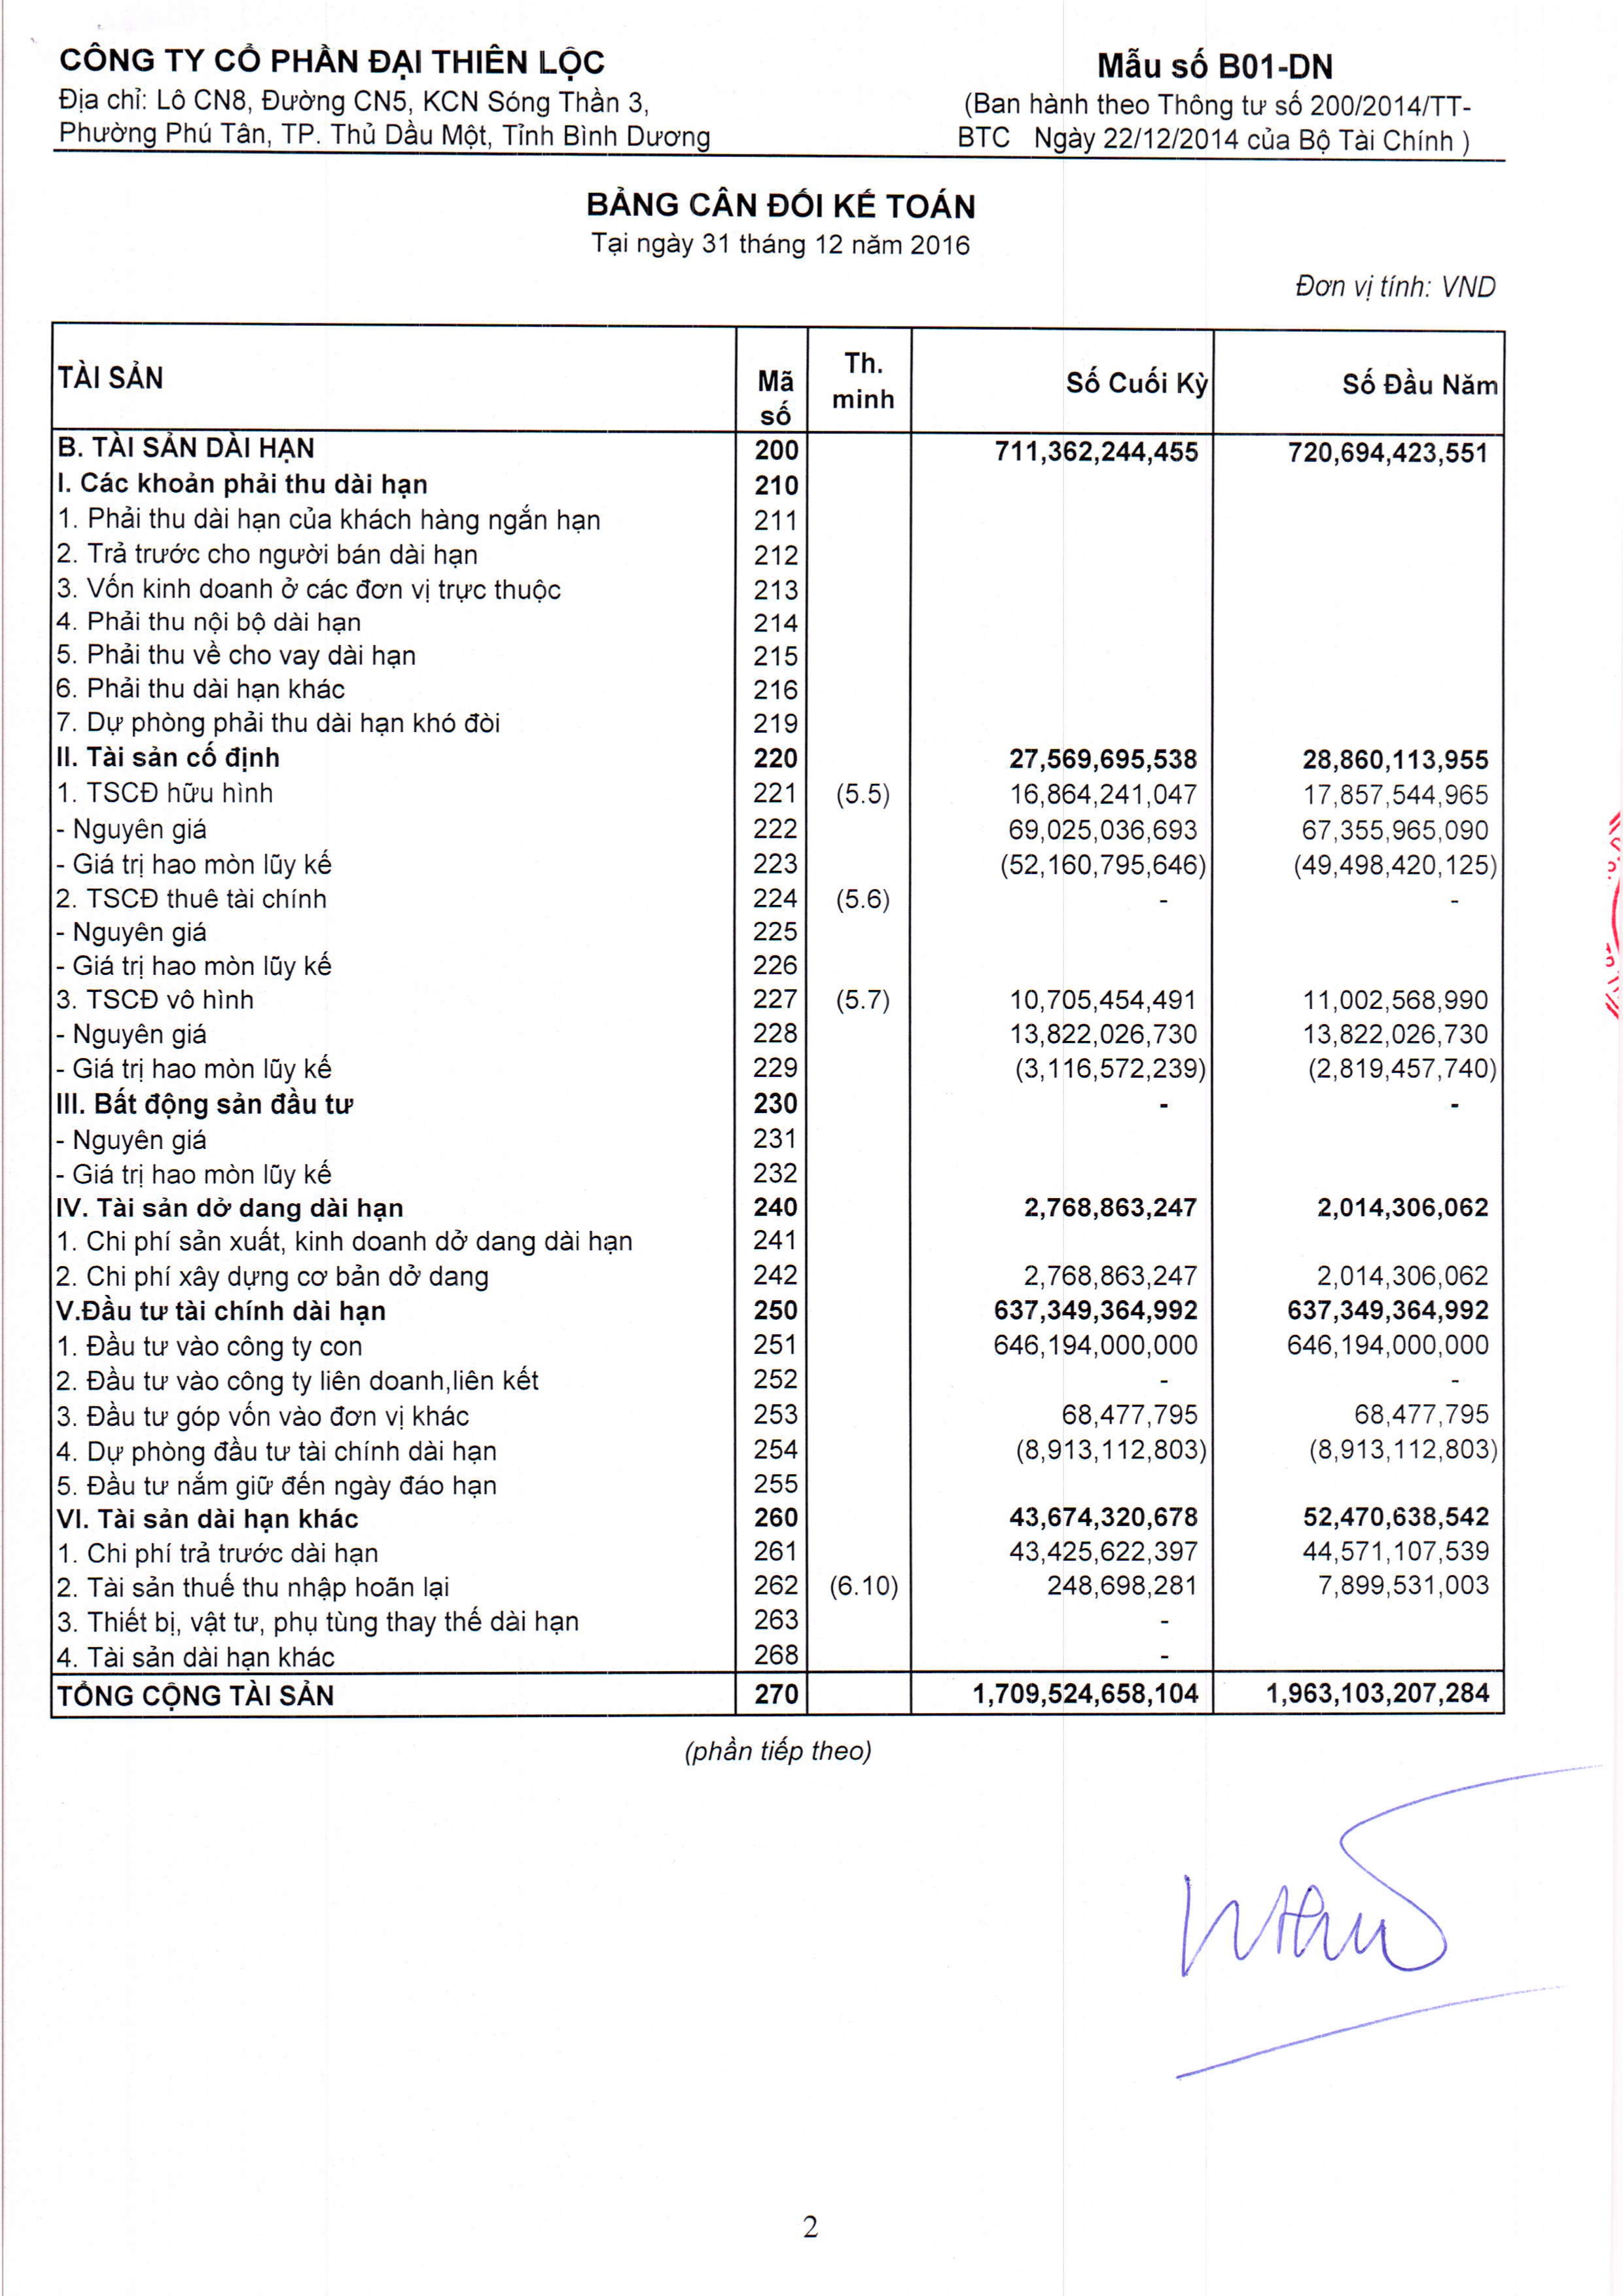table: (30, 314, 1521, 1731)
table column: (30, 314, 667, 1731), (1259, 314, 1521, 1731), (940, 314, 1198, 1731), (822, 314, 891, 1731), (731, 314, 785, 1731)
table column header: (28, 316, 1521, 397)
table row: (30, 328, 1521, 384), (30, 467, 1521, 500), (30, 718, 1521, 751), (30, 753, 1521, 786), (30, 792, 1521, 825), (30, 899, 1521, 932), (30, 934, 1521, 967), (30, 1041, 1521, 1074), (30, 1078, 1521, 1111), (30, 1150, 1521, 1183), (30, 1220, 1521, 1253), (30, 1257, 1521, 1290), (30, 1292, 1521, 1325), (30, 1329, 1521, 1362), (30, 1366, 1521, 1399), (30, 1473, 1521, 1506), (30, 432, 1521, 463), (30, 504, 1521, 535), (30, 541, 1521, 572), (30, 576, 1521, 607), (30, 611, 1521, 642), (30, 648, 1521, 679), (30, 683, 1521, 714), (30, 827, 1521, 858), (30, 862, 1521, 893), (30, 969, 1521, 1001), (30, 1008, 1521, 1039), (30, 1115, 1521, 1146), (30, 1187, 1521, 1218), (30, 1403, 1521, 1434), (30, 1438, 1521, 1469), (30, 1510, 1521, 1541), (30, 1545, 1521, 1576), (30, 1580, 1521, 1611), (30, 1617, 1521, 1648), (30, 1652, 1521, 1683), (30, 1692, 1521, 1724), (30, 397, 1521, 427)
